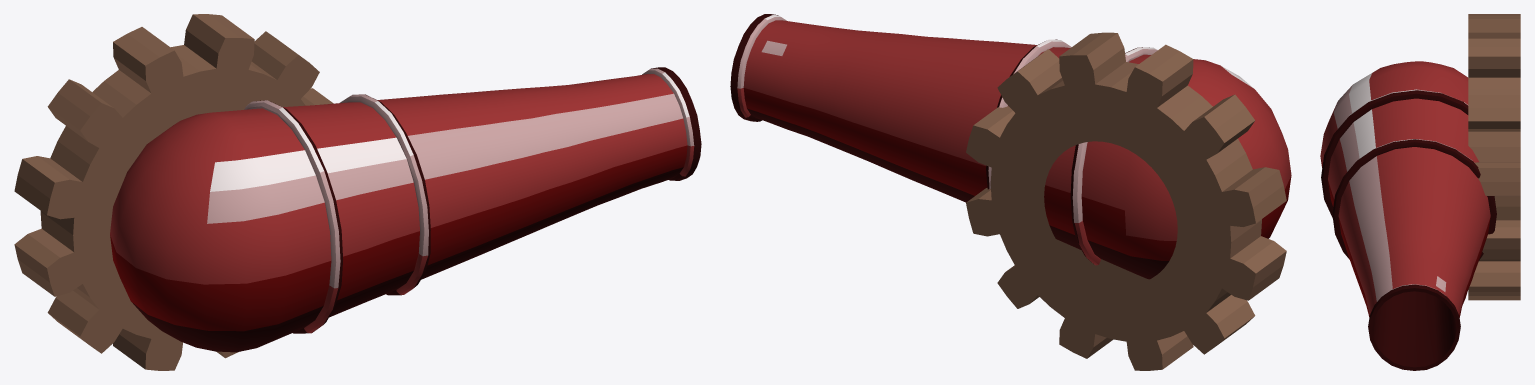
Rendered from turret_3_3.glb.
3 renders of one model, left to right at view 1: azimuth 30°, elevation 25°; view 2: azimuth 150°, elevation 25°; view 3: azimuth 270°, elevation 25°, orthographic. The views are drawn at different scales.
Parts seen in each view (by area): view 1: 3, gear; view 2: gear, 3; view 3: 3, gear.
Part boxes in pixels (bbox=[...]): 3: bbox=[110, 67, 701, 352]; gear: bbox=[14, 14, 333, 370]; gear: bbox=[966, 32, 1286, 370]; 3: bbox=[730, 14, 1291, 279]; 3: bbox=[1320, 61, 1496, 370]; gear: bbox=[1468, 14, 1520, 300].
Size of the model in its own units: 2.9 by 1.5 by 1.06.
